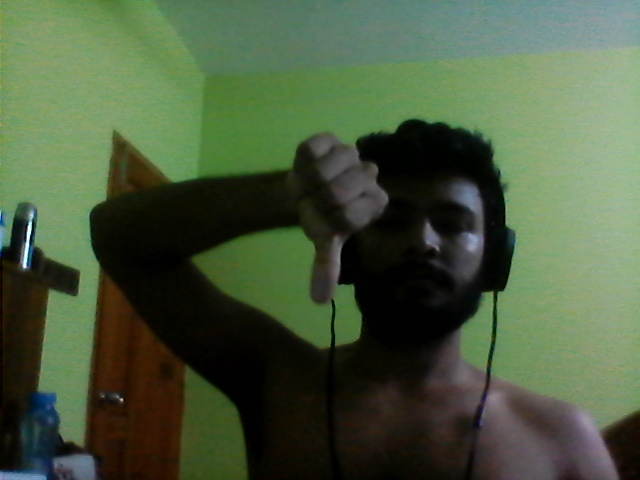No: (271, 126, 388, 308)
